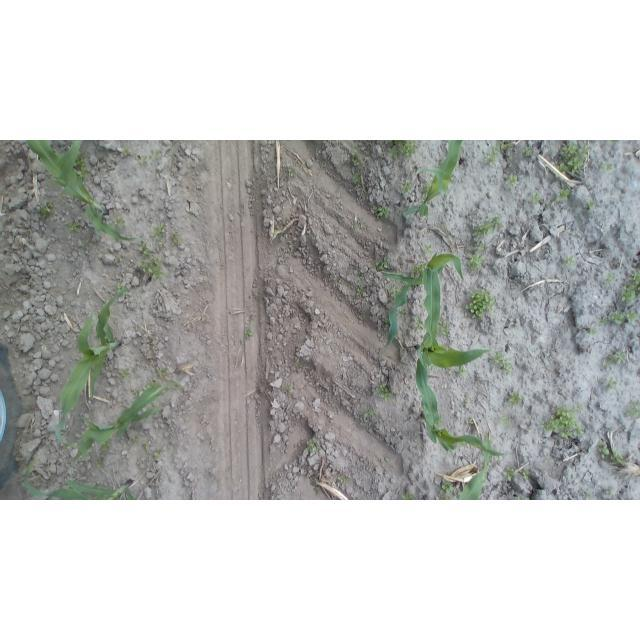Maize: (415, 262, 496, 424), (23, 141, 143, 246), (57, 286, 135, 447), (62, 382, 187, 461), (379, 253, 466, 351), (411, 398, 508, 459), (402, 141, 467, 221), (21, 467, 143, 500), (453, 437, 494, 500)
Weeds: (542, 403, 587, 439), (559, 141, 590, 176), (466, 287, 496, 319), (138, 253, 164, 280), (597, 440, 624, 464), (620, 271, 640, 303), (479, 214, 504, 235), (608, 309, 637, 326), (492, 350, 512, 374), (604, 350, 628, 368), (397, 141, 420, 159), (375, 381, 394, 401), (485, 144, 503, 165), (75, 152, 88, 178), (150, 222, 166, 239), (439, 479, 453, 498), (39, 202, 54, 219), (305, 437, 320, 454), (469, 253, 484, 270), (374, 205, 391, 220), (508, 391, 523, 406), (347, 151, 361, 167), (555, 186, 569, 202), (42, 313, 62, 324), (626, 399, 638, 417), (138, 244, 155, 255), (309, 479, 319, 496), (503, 466, 515, 480), (388, 146, 399, 161), (506, 174, 518, 187), (603, 378, 617, 389), (412, 260, 424, 272), (400, 181, 412, 193), (113, 216, 125, 228), (375, 257, 387, 269), (172, 230, 181, 246), (292, 358, 304, 370), (68, 221, 81, 232), (414, 318, 425, 331), (387, 286, 398, 299), (440, 321, 450, 335), (421, 185, 430, 200), (530, 193, 542, 204), (78, 240, 90, 251), (599, 162, 613, 171), (119, 367, 130, 378), (116, 285, 128, 295), (457, 365, 467, 377), (584, 200, 596, 210), (357, 286, 367, 298), (246, 313, 256, 325), (401, 491, 415, 499), (143, 381, 157, 389), (523, 146, 534, 156), (587, 324, 598, 334), (283, 383, 293, 394), (501, 141, 512, 151), (501, 415, 510, 427), (96, 456, 105, 468), (605, 273, 615, 283), (157, 367, 167, 377), (423, 243, 433, 253), (39, 336, 49, 346), (365, 410, 376, 419), (121, 148, 132, 157), (354, 172, 362, 184), (102, 441, 111, 451), (152, 149, 161, 159), (566, 255, 575, 265), (244, 327, 253, 337), (288, 167, 296, 178), (130, 388, 141, 396), (545, 456, 554, 465), (521, 469, 529, 479), (338, 475, 348, 483), (516, 496, 532, 501), (463, 395, 470, 406), (475, 242, 484, 250), (140, 155, 149, 163), (599, 315, 607, 324), (359, 273, 367, 282), (605, 489, 615, 496), (583, 491, 591, 499), (545, 200, 552, 209), (398, 310, 407, 317), (143, 442, 150, 451), (355, 219, 362, 228), (339, 277, 346, 285), (154, 450, 161, 458), (466, 418, 474, 425), (148, 342, 155, 350), (279, 235, 285, 244), (358, 422, 365, 429), (493, 459, 500, 466), (239, 338, 245, 346), (114, 256, 120, 264), (54, 266, 60, 274), (132, 436, 139, 442), (158, 242, 164, 249), (610, 140, 619, 144), (274, 226, 280, 232), (570, 206, 575, 212), (388, 141, 397, 144)
